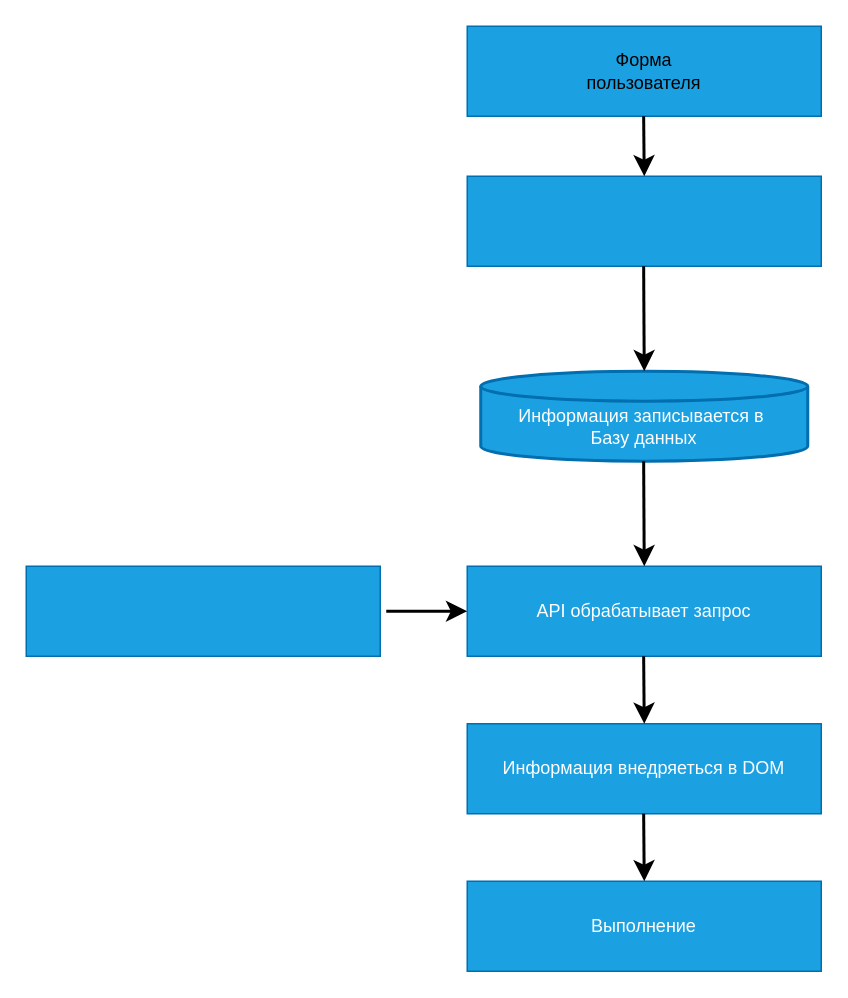
Image size: 848x998. Some labels were removed from this diagram. Each missing label, with the box of its shape:
API получает инфомацю из формы: (466, 175, 821, 266)
Запрос пользователя: (25, 565, 380, 656)
